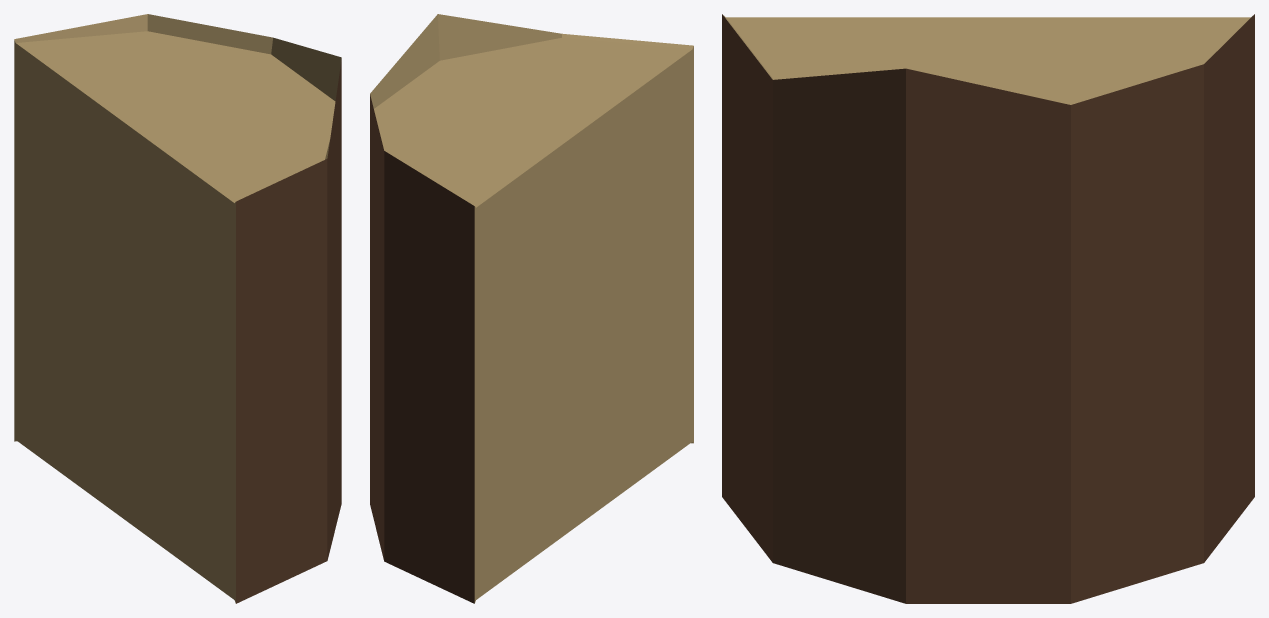
File: WoodRGHT.fbx
3 renders of one model, left to right at view 1: azimuth 30°, elevation 25°; view 2: azimuth 150°, elevation 25°; view 3: azimuth 270°, elevation 25°, orthographic. The views are drawn at different scales.
Visible parts, largest first — view 1: right; view 2: right; view 3: right.
Boxes of the visible parts, box(x1,y1,x2,y2) form: right: box(14, 14, 341, 603); right: box(370, 14, 693, 603); right: box(722, 14, 1254, 603).
Size of the model in its own units: 37.13 by 86.74 by 78.21.
